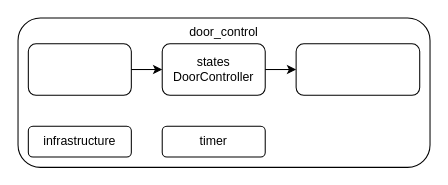
This 448x185 diagram has some shape labels left out. The shapes that lost their labels are listed below. From the top down, each one's centre as x and y in pixels, then its label:
[79,69]: input
[357,69]: output VariableSpeedStarter
